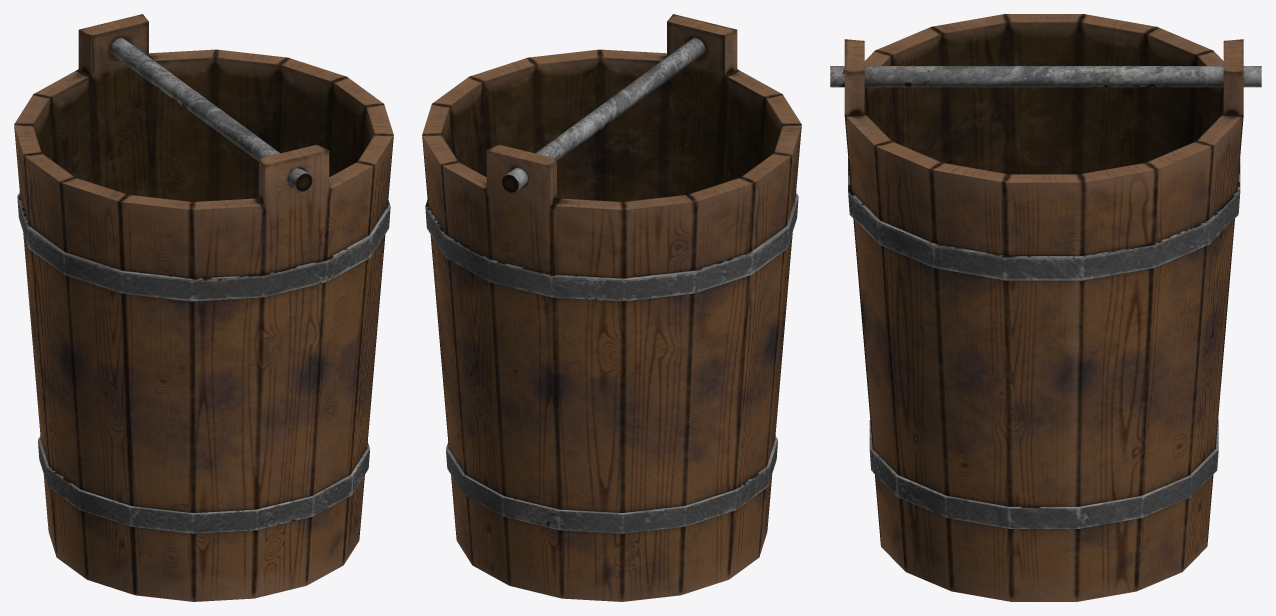
Rendered from wood_bucket2.glb.
3 renders of one model, left to right at view 1: azimuth 30°, elevation 25°; view 2: azimuth 150°, elevation 25°; view 3: azimuth 270°, elevation 25°, orthographic. The views are drawn at different scales.
Visible parts, largest first — view 1: body_low, Line_low, Handle_low; view 2: body_low, Line_low, Handle_low; view 3: body_low, Line_low, Handle_low.
Part boxes in pixels (box(x1,y1,x2,y2)): body_low: box(14, 14, 393, 601); Line_low: box(17, 192, 390, 533); Handle_low: box(110, 37, 312, 191); body_low: box(422, 14, 801, 601); Line_low: box(425, 192, 798, 533); Handle_low: box(501, 37, 705, 192); body_low: box(844, 14, 1243, 601); Line_low: box(848, 158, 1240, 528); Handle_low: box(830, 66, 1261, 87).
Size of the model in its own units: 14.29 by 18.84 by 15.45.
1 material, 1 textured.
